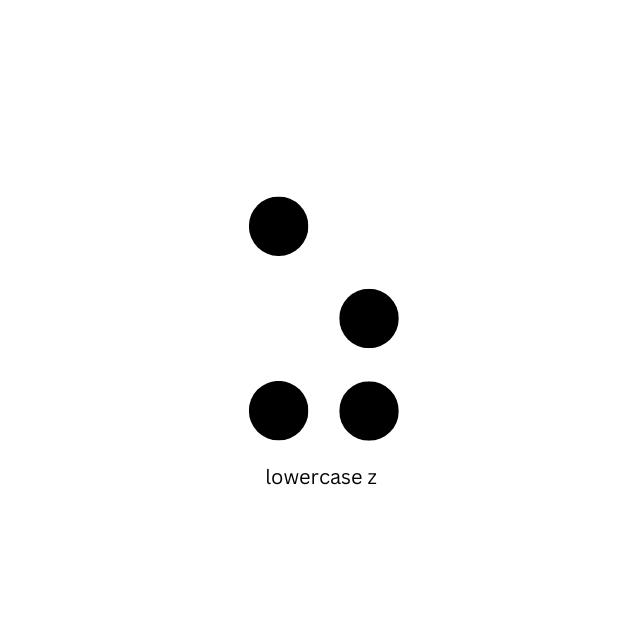letter_z: (248, 195, 399, 442)
